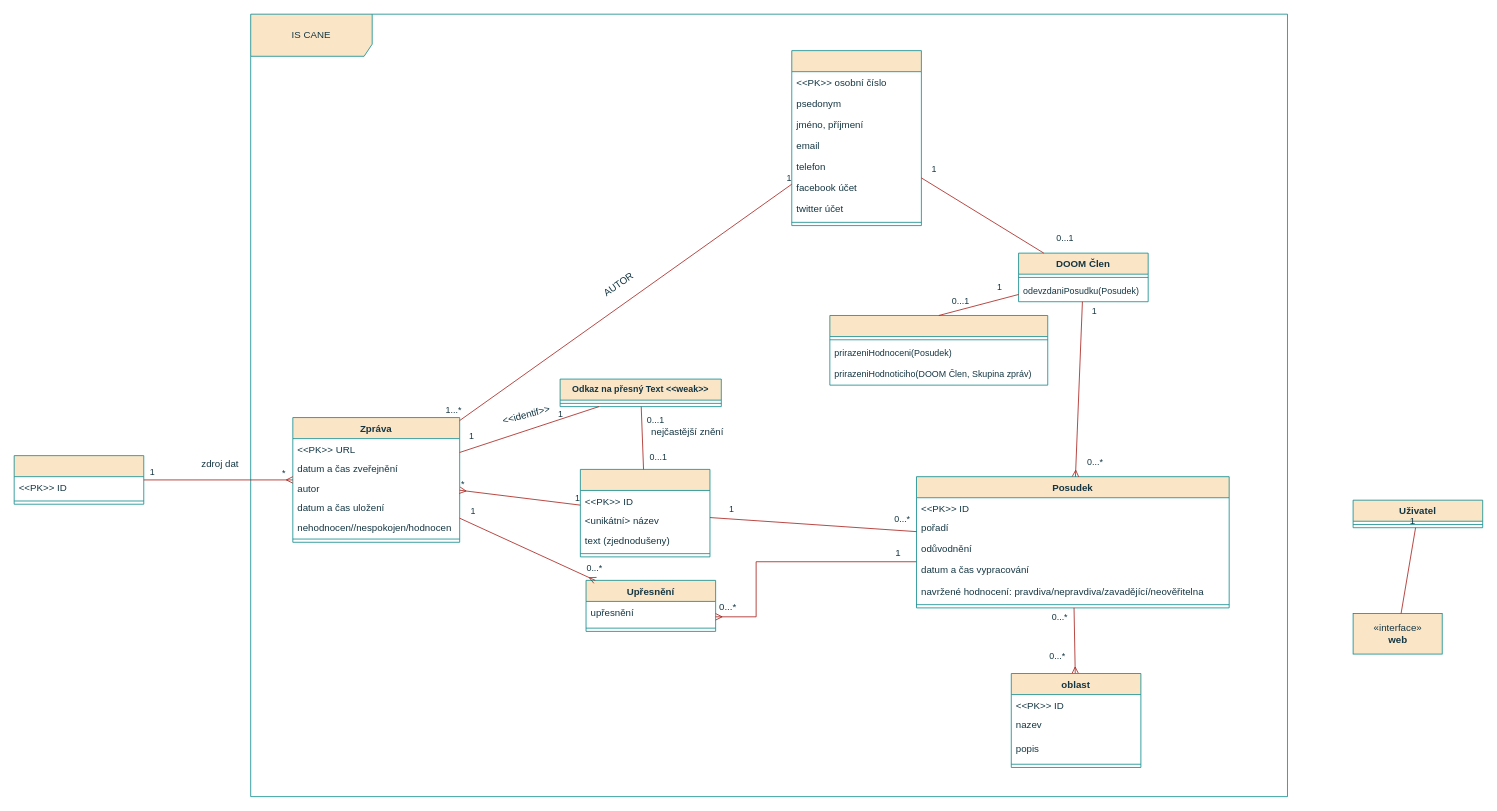
The diagram is 1497 pixels wide and 811 high, and some of its shapes have lost their labels. Here are the shapes that lost their labels. From the top down, the box of each, then its label:
(791, 50, 921, 226): Osoba
(829, 315, 1048, 385): Vedoucí DOOM
(13, 455, 144, 504): Bot
(580, 469, 710, 557): Skupina Zpráv
